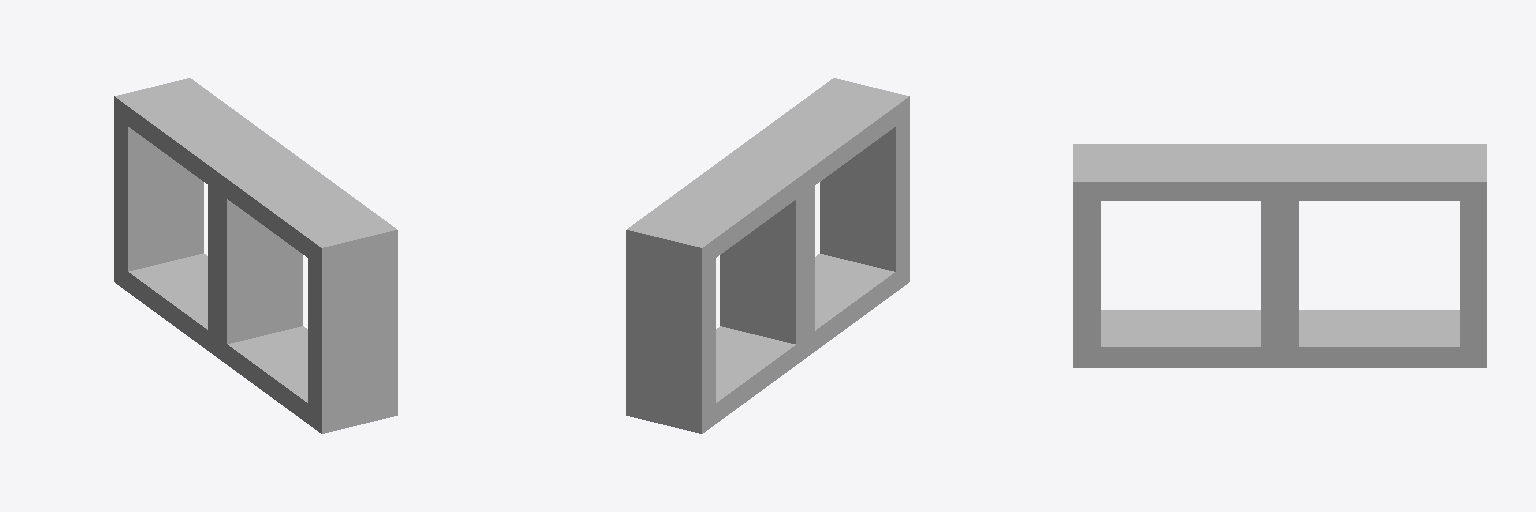
Rendered from window.obj.
3 views of the same model, side by side, from view 1: azimuth 30°, elevation 25°; view 2: azimuth 150°, elevation 25°; view 3: azimuth 270°, elevation 25° (orthographic).
Parts seen in each view (by area): view 1: Cube.001; view 2: Cube.001; view 3: Cube.001.
Part boxes in pixels (x1,y1,x2,y2): Cube.001: (114,78,397,433); Cube.001: (626,78,909,433); Cube.001: (1073,144,1486,367).
Size of the model in its own units: 1.09 by 2.56 by 5.17.